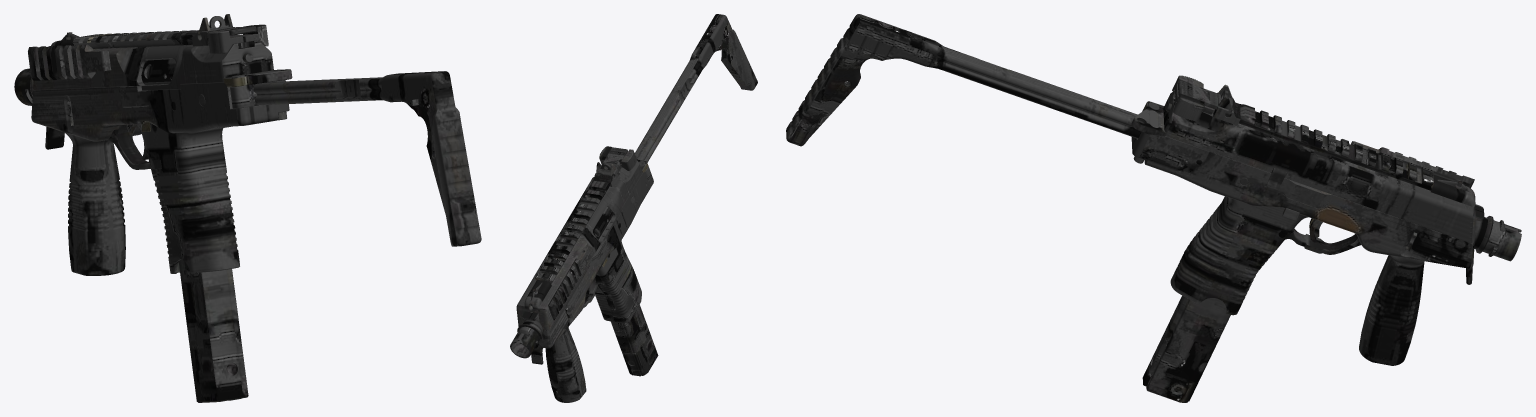
The picture shows the model from 3 angles, left to right: view 1: azimuth 30°, elevation 25°; view 2: azimuth 150°, elevation 25°; view 3: azimuth 270°, elevation 25°; orthographic projection. The views are drawn at different scales.
Visible parts, largest first — view 1: p_tmp; view 2: p_tmp; view 3: p_tmp.
Boxes of the visible parts, bbox=[...] form: p_tmp: bbox=[14, 14, 481, 402]; p_tmp: bbox=[510, 14, 757, 402]; p_tmp: bbox=[786, 14, 1521, 402].
Size of the model in its own units: 0.0819 by 0.4514 by 0.7492.
Materials: 1 (1 with a texture image).
